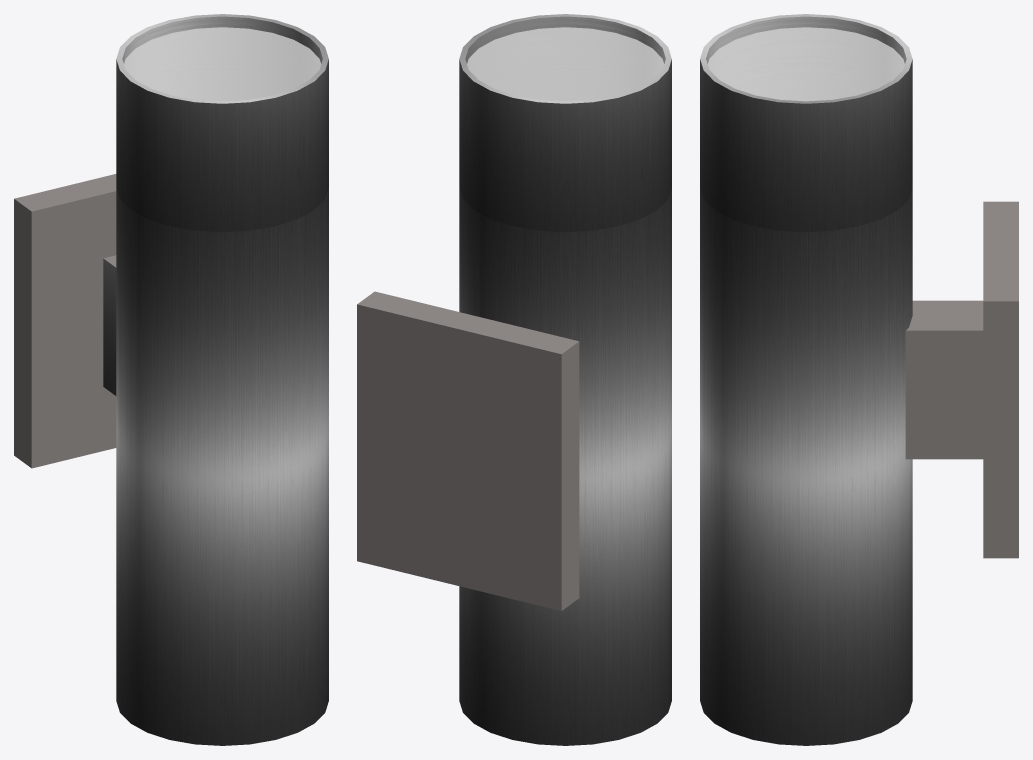
Rendered from wall_light_sconce.glb.
3 renders of one model, left to right at view 1: azimuth 30°, elevation 25°; view 2: azimuth 150°, elevation 25°; view 3: azimuth 270°, elevation 25°, orthographic.
Parts seen in each view (by area): view 1: Geom3D (×3), Geom3D_; view 2: Geom3D (×2), Geom3D_; view 3: Geom3D (×2), Geom3D_.
Part boxes in pixels (bbox=[...]): Geom3D (×3): bbox=[103, 14, 328, 745]; Geom3D_: bbox=[14, 174, 116, 468]; Geom3D (×2): bbox=[459, 14, 671, 745]; Geom3D_: bbox=[357, 291, 579, 610]; Geom3D (×2): bbox=[700, 14, 912, 745]; Geom3D_: bbox=[905, 201, 1018, 558].
Bounding box in the file's own units: 0.127 × 0.381 × 0.1715.
3 materials, 1 textured.
